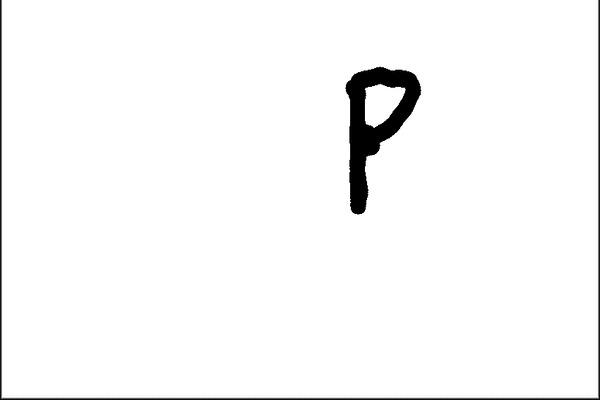P: (327, 54, 438, 222)
